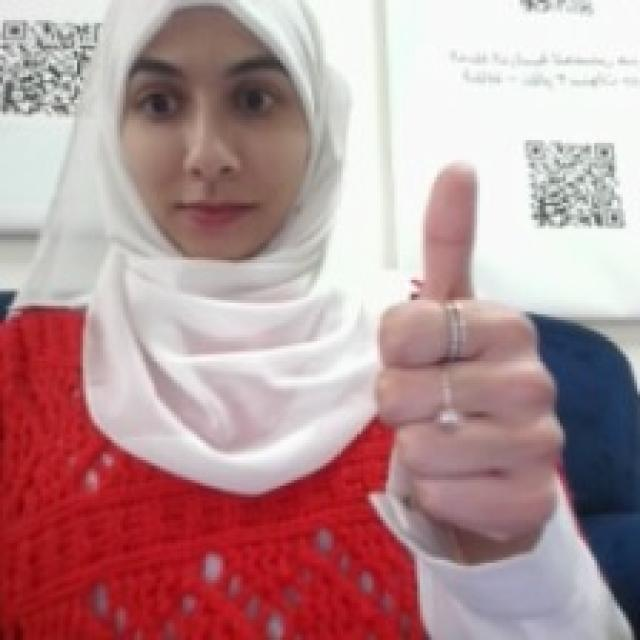fine: (372, 154, 568, 544)
